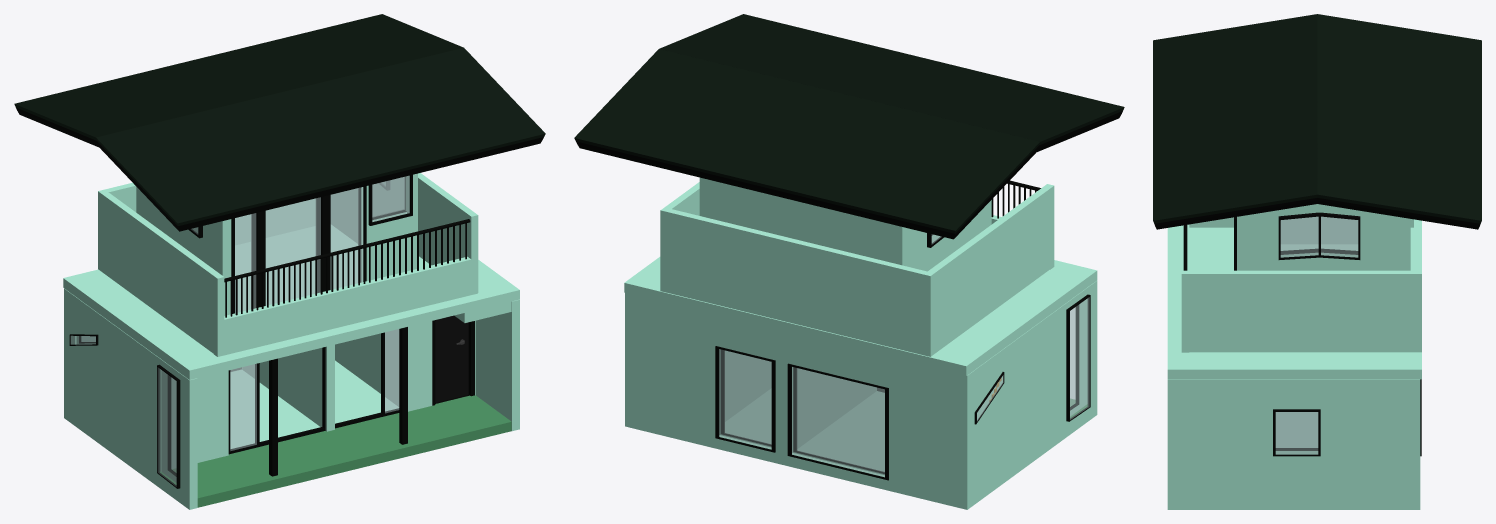
The model's file is Modern House 1.FBX.
3 renders of one model, left to right at view 1: azimuth 30°, elevation 25°; view 2: azimuth 150°, elevation 25°; view 3: azimuth 270°, elevation 25°, orthographic. The views are drawn at different scales.
Parts seen in each view (by area): view 1: Box040, Box041, Box001, Box002, Box039, Box005, Box008, Box006, Box012, Box003, Box031, Box010 (+10 smaller); view 2: Box041, Box004, Box009, Box040, Box002, Box008, Box005, Box038, Box001, Box031, Box036, Box011 (+2 smaller); view 3: Box003, Box040, Box041, Box007, Box005, Box037, Box036, Box011, Box038, Box009, Box039.
Part boxes in pixels (<box>): Box040: <box>96,47,545,231</box>; Box041: <box>14,14,463,147</box>; Box001: <box>160,360,511,507</box>; Box002: <box>64,288,197,509</box>; Box039: <box>221,173,417,315</box>; Box005: <box>63,225,519,379</box>; Box008: <box>98,190,224,356</box>; Box006: <box>214,256,477,356</box>; Box012: <box>408,315,475,411</box>; Box003: <box>475,299,519,431</box>; Box031: <box>242,344,334,431</box>; Box010: <box>159,369,228,471</box>; Box041: <box>574,49,1039,239</box>; Box004: <box>630,294,960,508</box>; Box009: <box>665,208,931,355</box>; Box040: <box>659,14,1124,151</box>; Box002: <box>961,280,1097,509</box>; Box008: <box>927,184,1054,356</box>; Box005: <box>624,257,1097,375</box>; Box038: <box>699,177,903,265</box>; Box001: <box>719,388,1087,477</box>; Box031: <box>792,367,877,452</box>; Box036: <box>904,202,989,271</box>; Box011: <box>725,351,771,421</box>; Box003: <box>1167,379,1420,509</box>; Box040: <box>1153,14,1317,229</box>; Box041: <box>1317,14,1481,229</box>; Box007: <box>1181,270,1421,352</box>; Box005: <box>1167,225,1421,379</box>; Box037: <box>1240,204,1402,270</box>; Box036: <box>1281,217,1357,243</box>; Box011: <box>1276,412,1317,447</box>; Box038: <box>1402,217,1410,270</box>; Box009: <box>1414,219,1421,271</box>; Box039: <box>1234,216,1240,270</box>.
Size of the model in its own units: 338 by 283 by 260.
